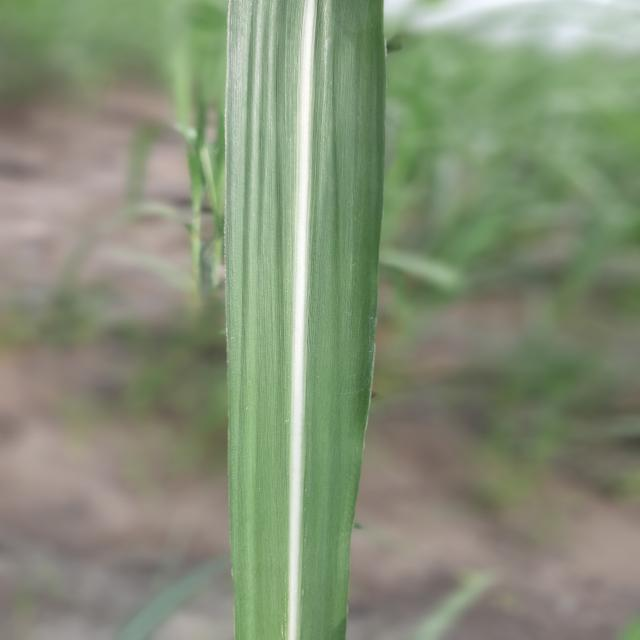Sugarcane: (222, 0, 387, 639)
